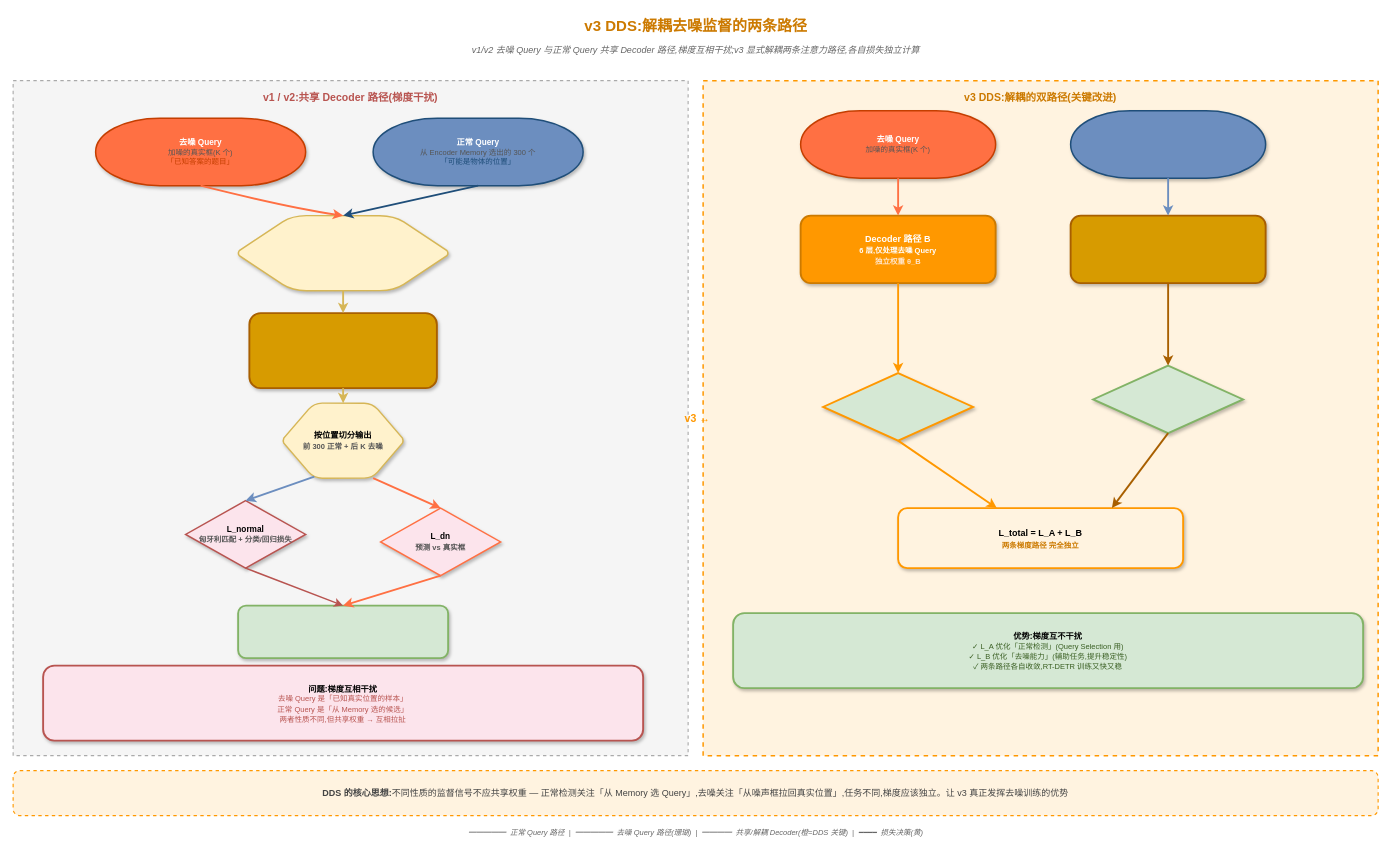
The diagram is 1392 pixels wide and 854 high, and some of its shapes have lost their labels. Each missing label, with the centre of its shape:
"Decoder 路径 A 6 层,仅处理正常 Query 独立权重 θ_A" goes at pixel 1168 250.
"L_A (正常检测) 匈牙利匹配 + 分类/回归" goes at pixel 1168 400.
"L_B (去噪) 预测 vs 真实框" goes at pixel 898 407.
"L_total = L_normal + L_dn" goes at pixel 343 632.
"共享 Decoder 6 层可变形注意力 两种 Query 走完全相同的路径" goes at pixel 343 351.
"拼接成一个序列 [正常 Query | 去噪 Query]" goes at pixel 343 254.
"正常 Query 从 Encoder Memory 选出的 300 个" goes at pixel 1168 145.
